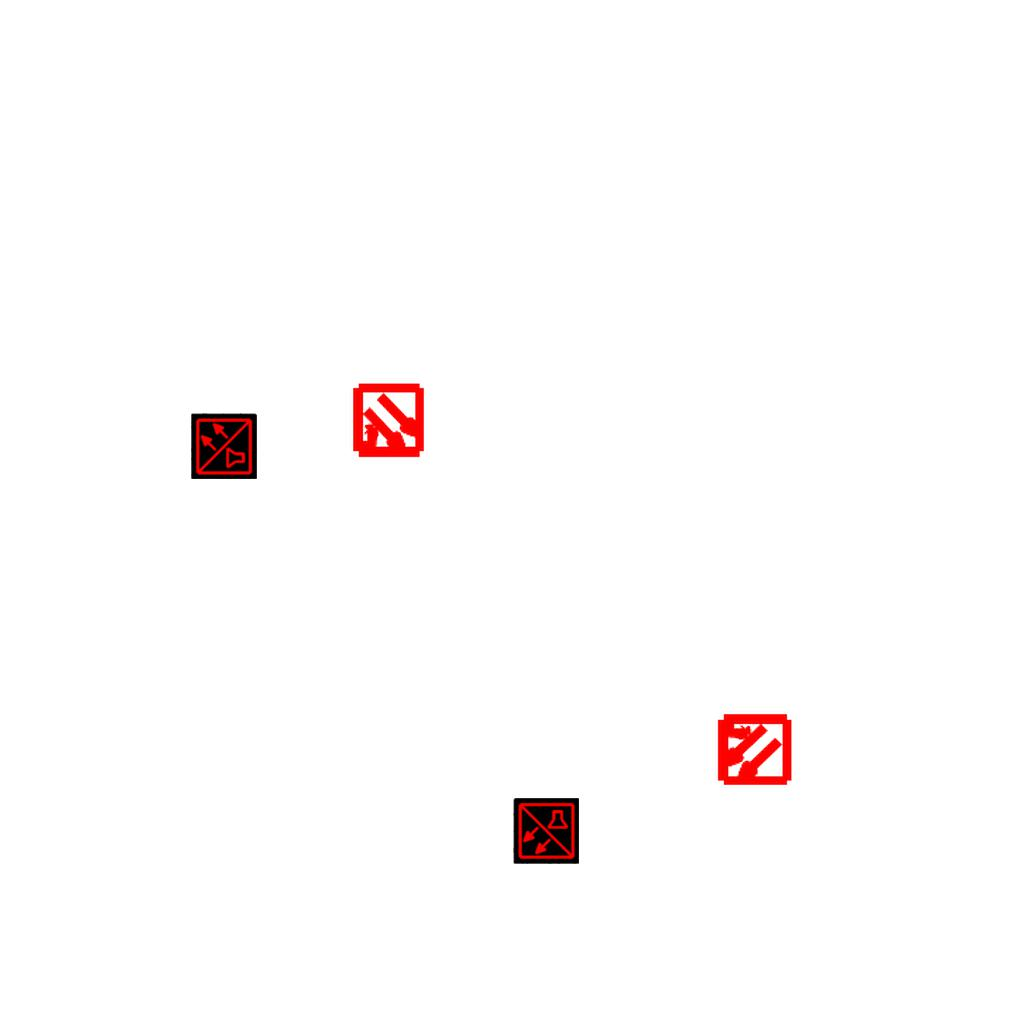OKW_Multisensormelder_(Kombination_optischer_Rauch-Kahlenmonoxid_Waerme-Melder): (191, 413, 257, 479), (513, 798, 579, 864)
OT_Multisensormelder_(Kombination_RMO_WMD): (696, 693, 809, 806), (332, 366, 445, 479)
